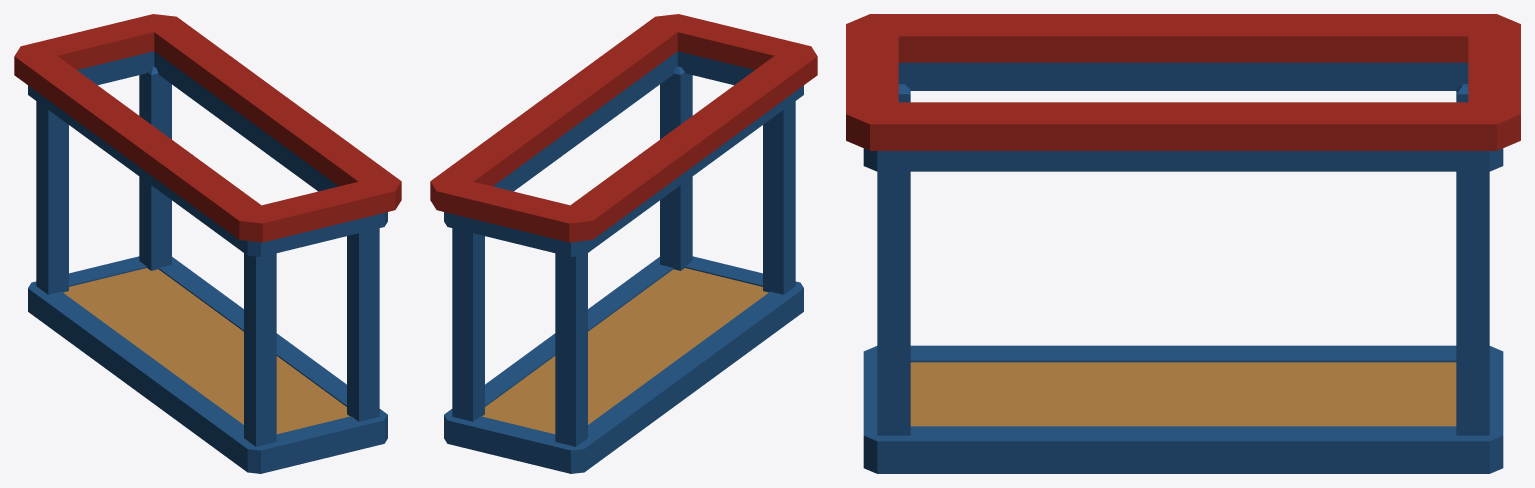
File: SM_Cart_SorbetesCase_01.fbx
3 views of the same model, side by side, from view 1: azimuth 30°, elevation 25°; view 2: azimuth 150°, elevation 25°; view 3: azimuth 270°, elevation 25° (orthographic). The views are drawn at different scales.
Parts seen in each view (by area): view 1: SM_Cart_SorbetesCase_01; view 2: SM_Cart_SorbetesCase_01; view 3: SM_Cart_SorbetesCase_01.
Part boxes in pixels (left/top/right/bottom): SM_Cart_SorbetesCase_01: left=14, top=14, right=401, bottom=473; SM_Cart_SorbetesCase_01: left=430, top=14, right=817, bottom=473; SM_Cart_SorbetesCase_01: left=846, top=14, right=1520, bottom=473.
Size of the model in its own units: 0.268 by 0.404 by 0.692.
Materials: 1 (1 with a texture image).
